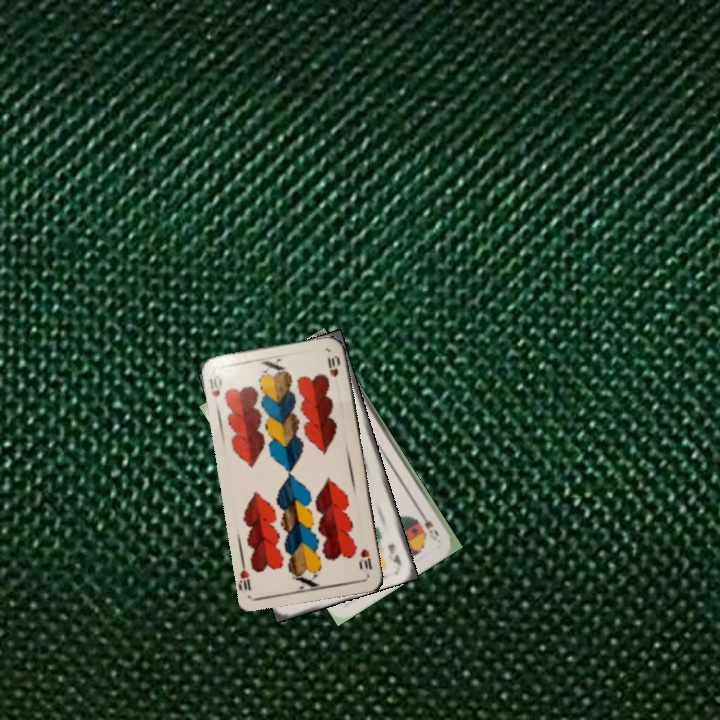EK: (384, 539, 404, 567)
H10: (205, 371, 224, 399), (356, 545, 374, 572)
SO: (415, 507, 442, 543)
